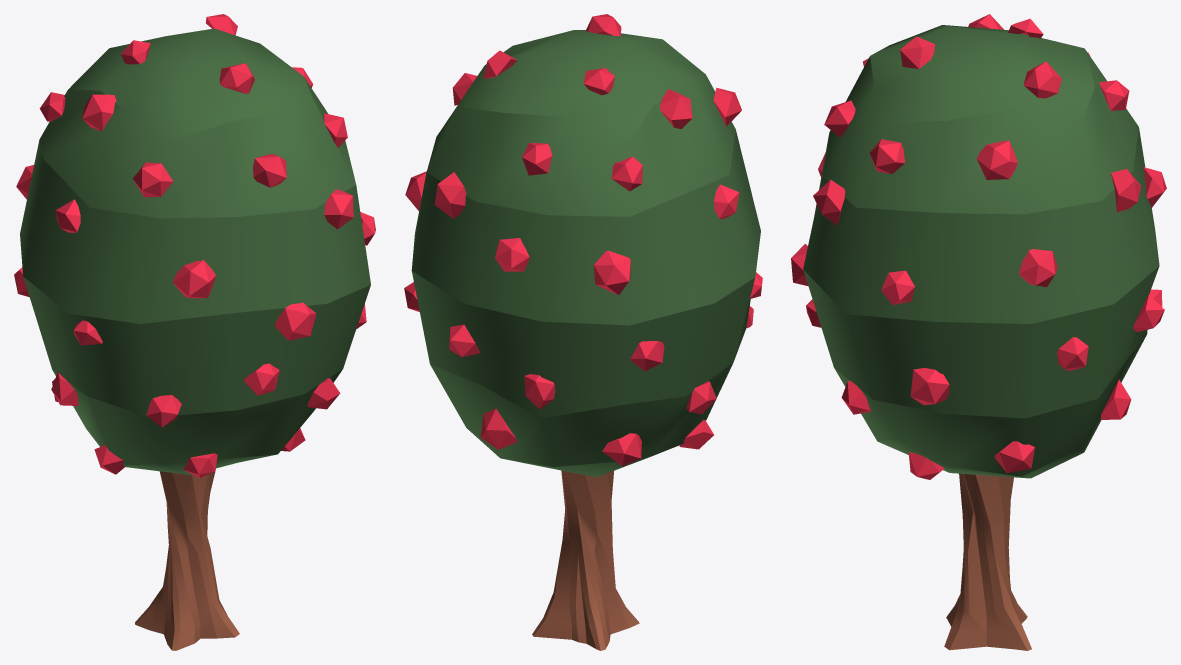
The model's file is Tree_2_Medium_WF.fbx.
3 renders of one model, left to right at view 1: azimuth 30°, elevation 25°; view 2: azimuth 150°, elevation 25°; view 3: azimuth 270°, elevation 25°, orthographic. The views are drawn at different scales.
Visible parts, largest first — view 1: Tree_2_Medium_WF; view 2: Tree_2_Medium_WF; view 3: Tree_2_Medium_WF.
Part boxes in pixels (box(x1,y1,x2,y2)): Tree_2_Medium_WF: box(14, 14, 375, 650); Tree_2_Medium_WF: box(404, 14, 762, 650); Tree_2_Medium_WF: box(791, 14, 1166, 650).
Bounding box in the file's own units: 102 × 190 × 108.
